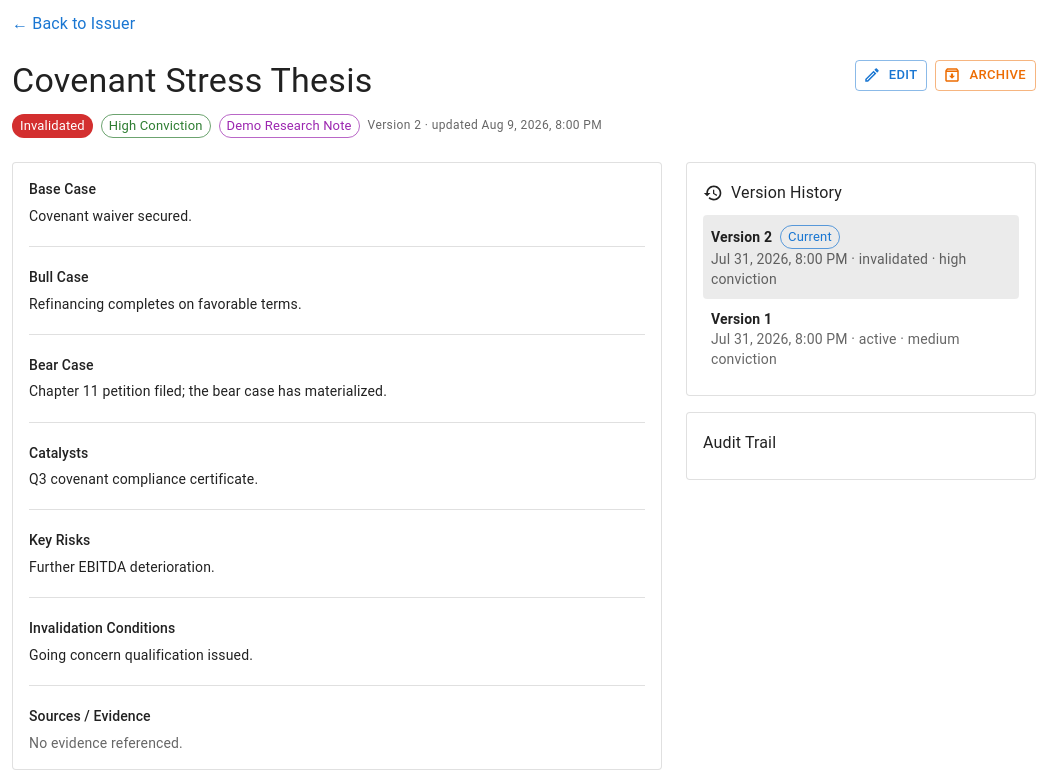
Scenario: ResearchNotePage › switches to a historical version's read-only content when clicked
Click the text "Version 1" at [742, 319], box [711,309,772,329]
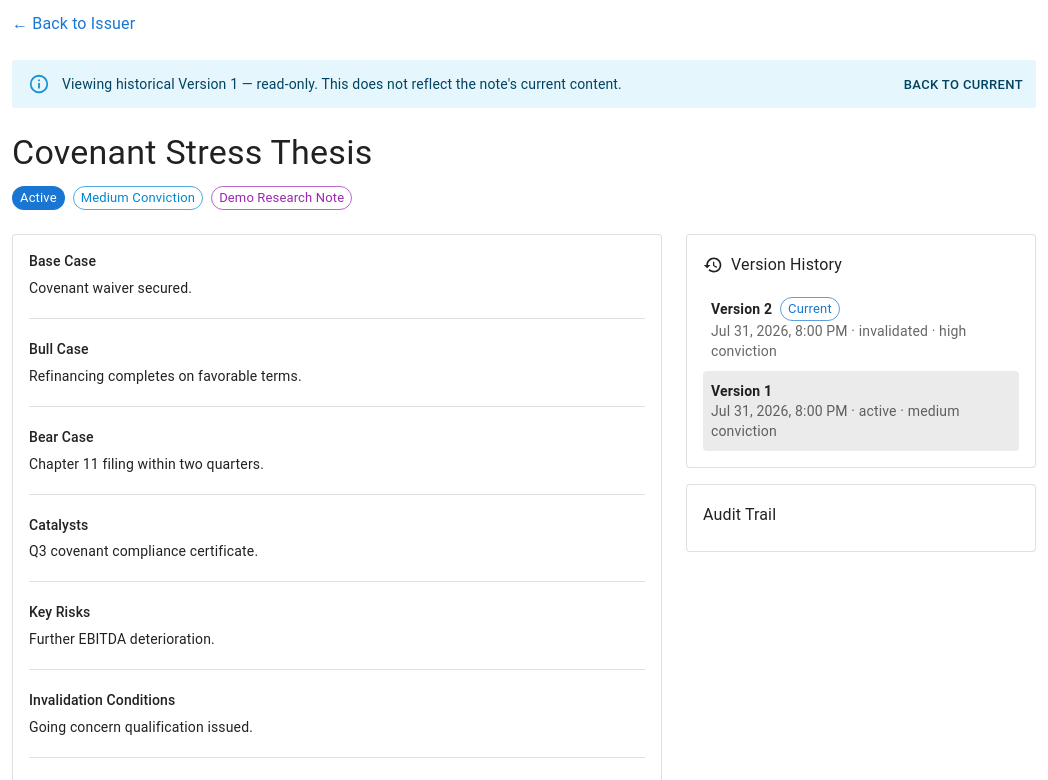
Expected: the text "Viewing historical Version 1" is shown, [62,76,622,92]
Expected: the text "Chapter 11 filing within two quarters." is shown, [29,456,264,472]
